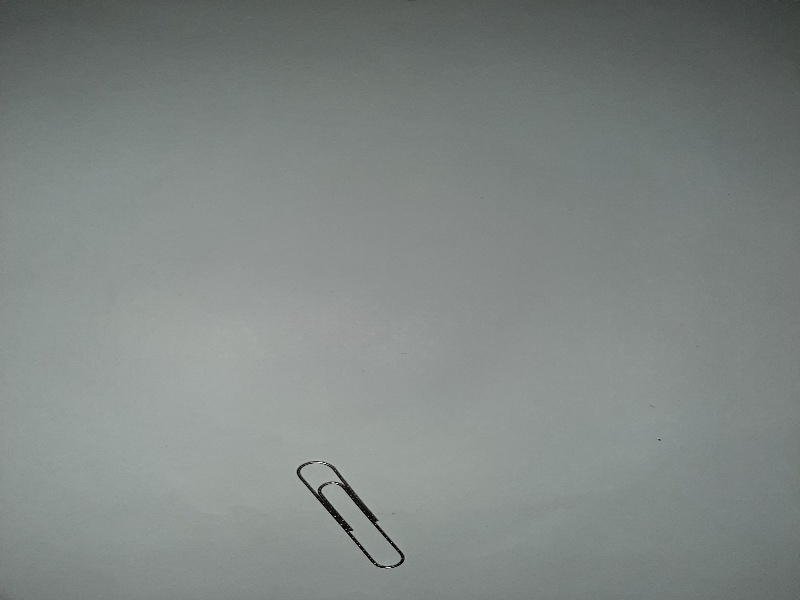Big Jumpclip: (294, 456, 412, 573)
